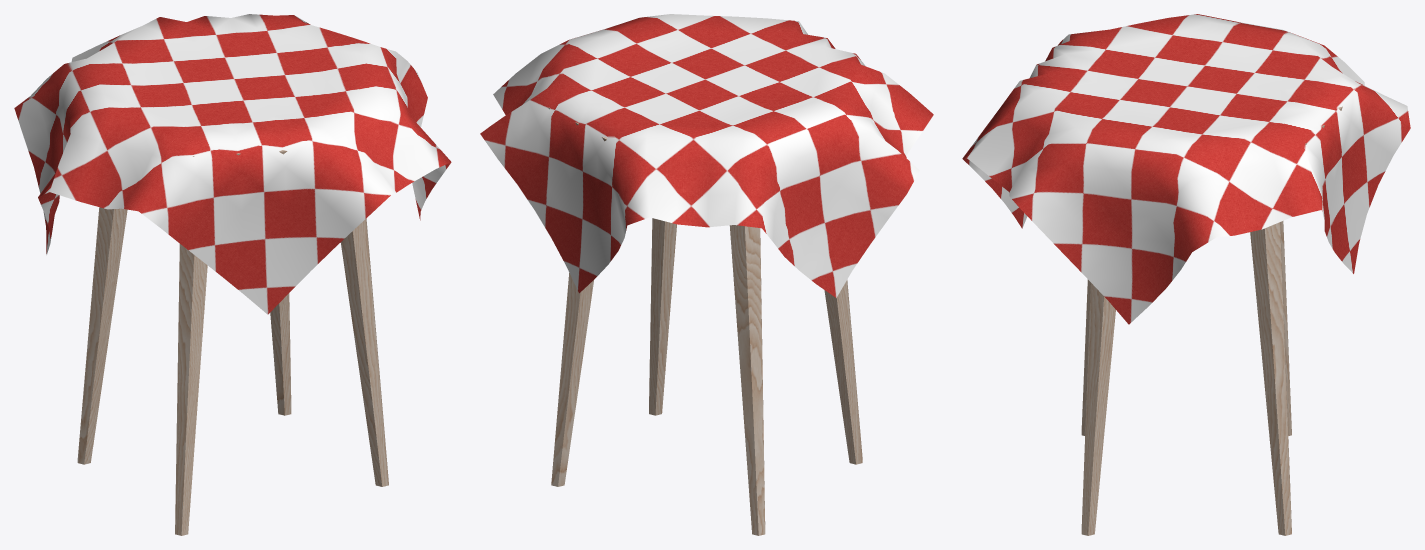
Rendered from table.fbx.
3 views of the same model, side by side, from view 1: azimuth 30°, elevation 25°; view 2: azimuth 150°, elevation 25°; view 3: azimuth 270°, elevation 25° (orthographic).
Visible parts, largest first — view 1: cloth_geo, table_geo; view 2: cloth_geo, table_geo; view 3: cloth_geo, table_geo.
Part boxes in pixels (x1,y1,x2,y2): cloth_geo: [14, 14, 451, 314]; table_geo: [77, 150, 388, 535]; cloth_geo: [480, 14, 933, 297]; table_geo: [548, 107, 862, 535]; cloth_geo: [962, 14, 1410, 324]; table_geo: [1081, 106, 1342, 535].
Size of the model in its own units: 30.06 by 28.8 by 29.04.
